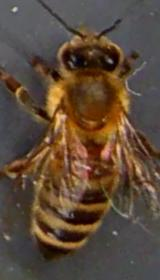varroa_mite: (66, 156, 95, 179)
